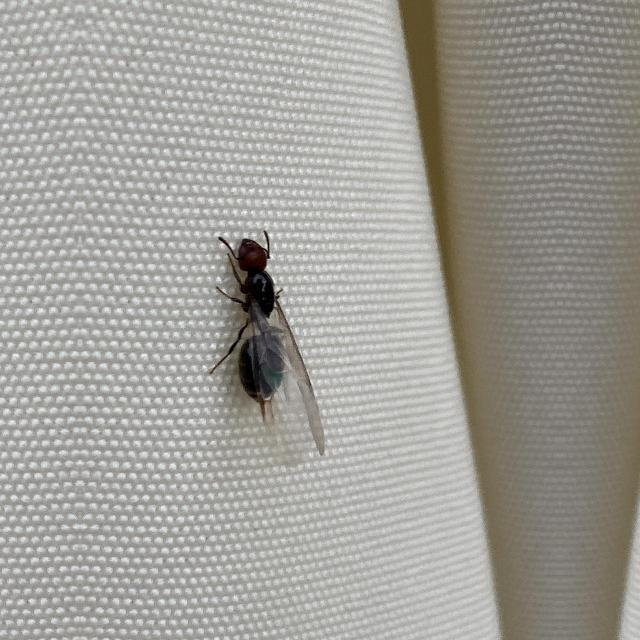Crematogaster: (198, 213, 330, 471)
